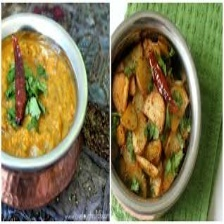sabzi: (111, 27, 190, 199)
